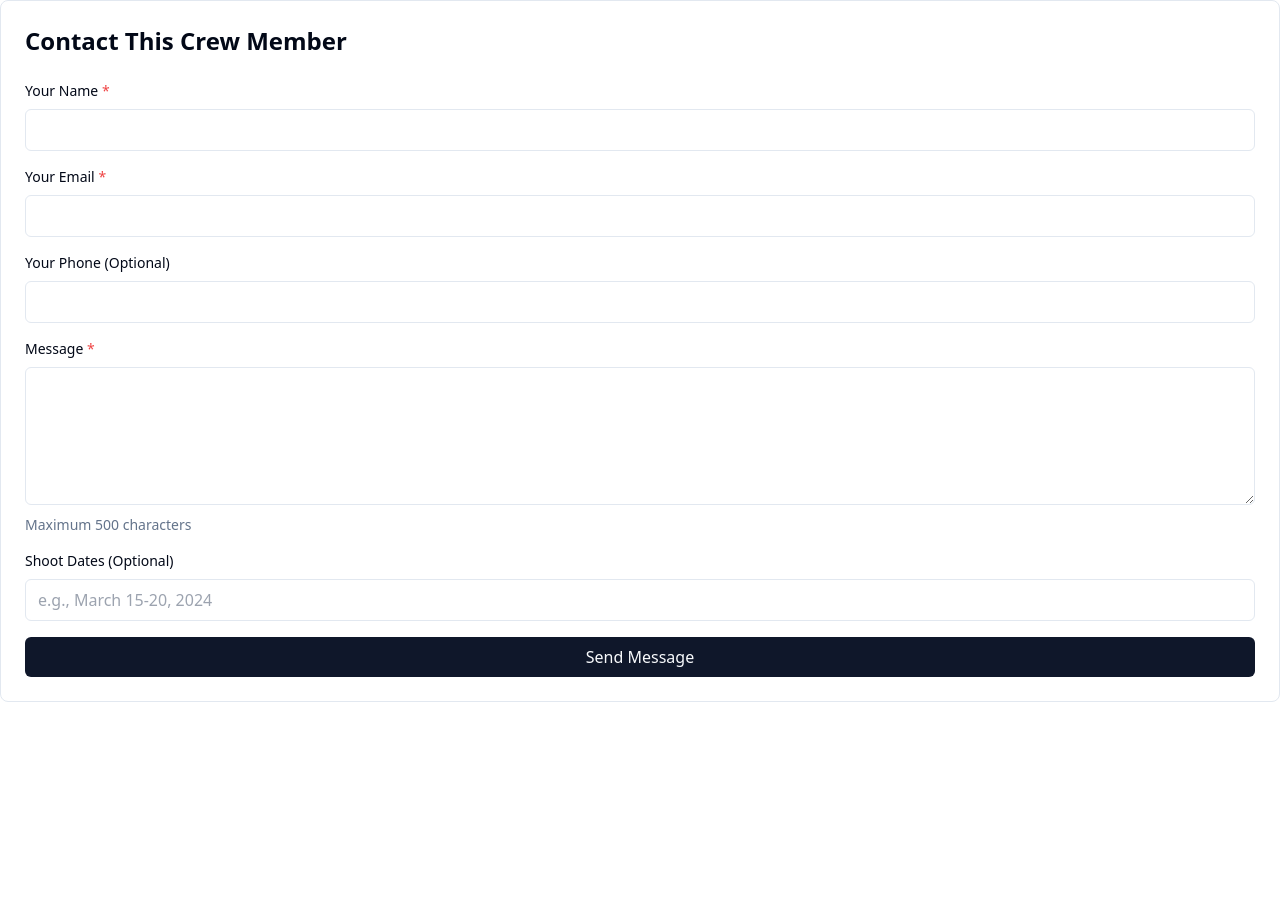
Scenario: ContactForm › should validate email format
// Fill required fields first
Type "John Producer" into the field labelled "Your Name *" at (640,130), box [25,109,1255,151]
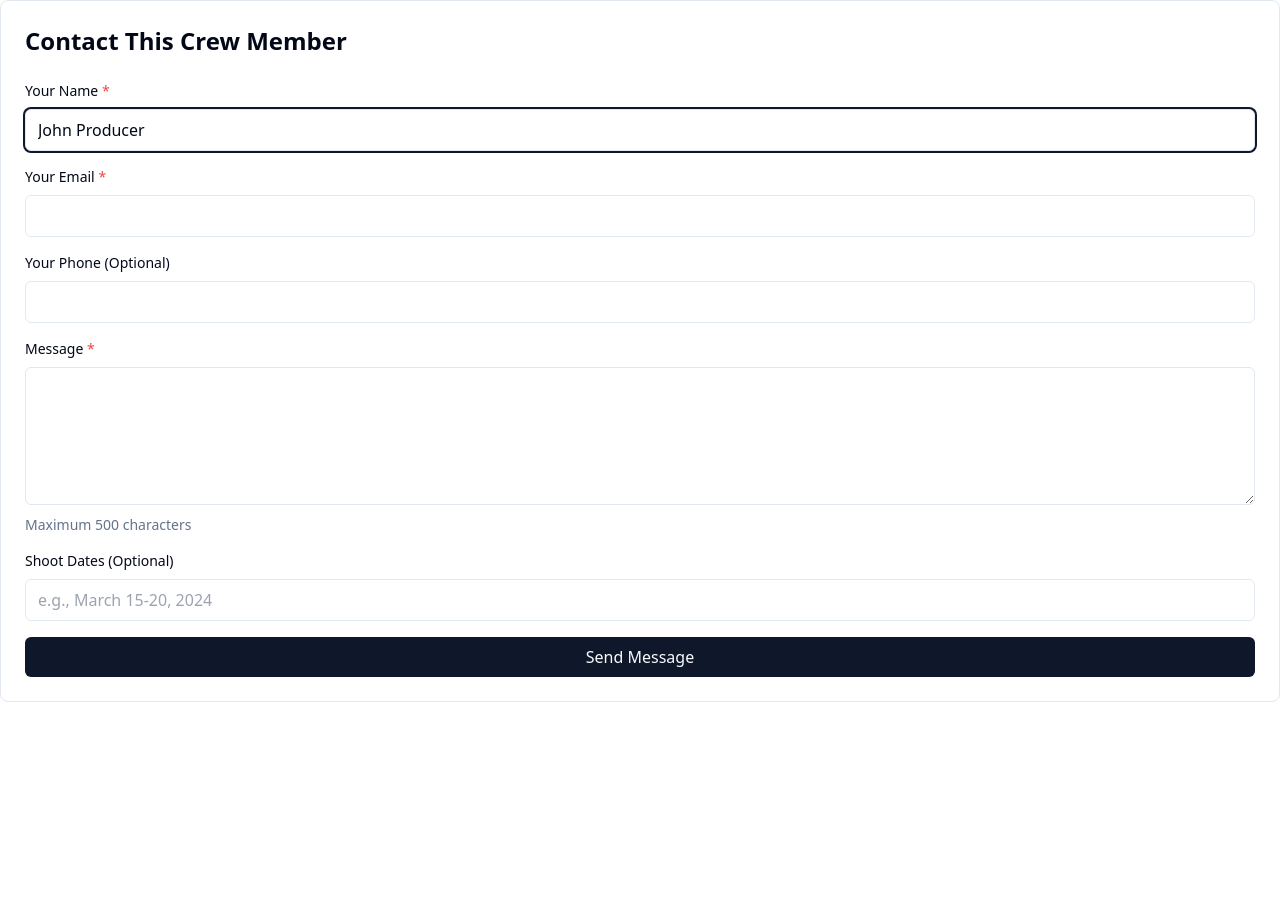
// Enter invalid email
Type "invalid-email" into the field labelled "Your Email *" at (640,216), box [25,195,1255,237]
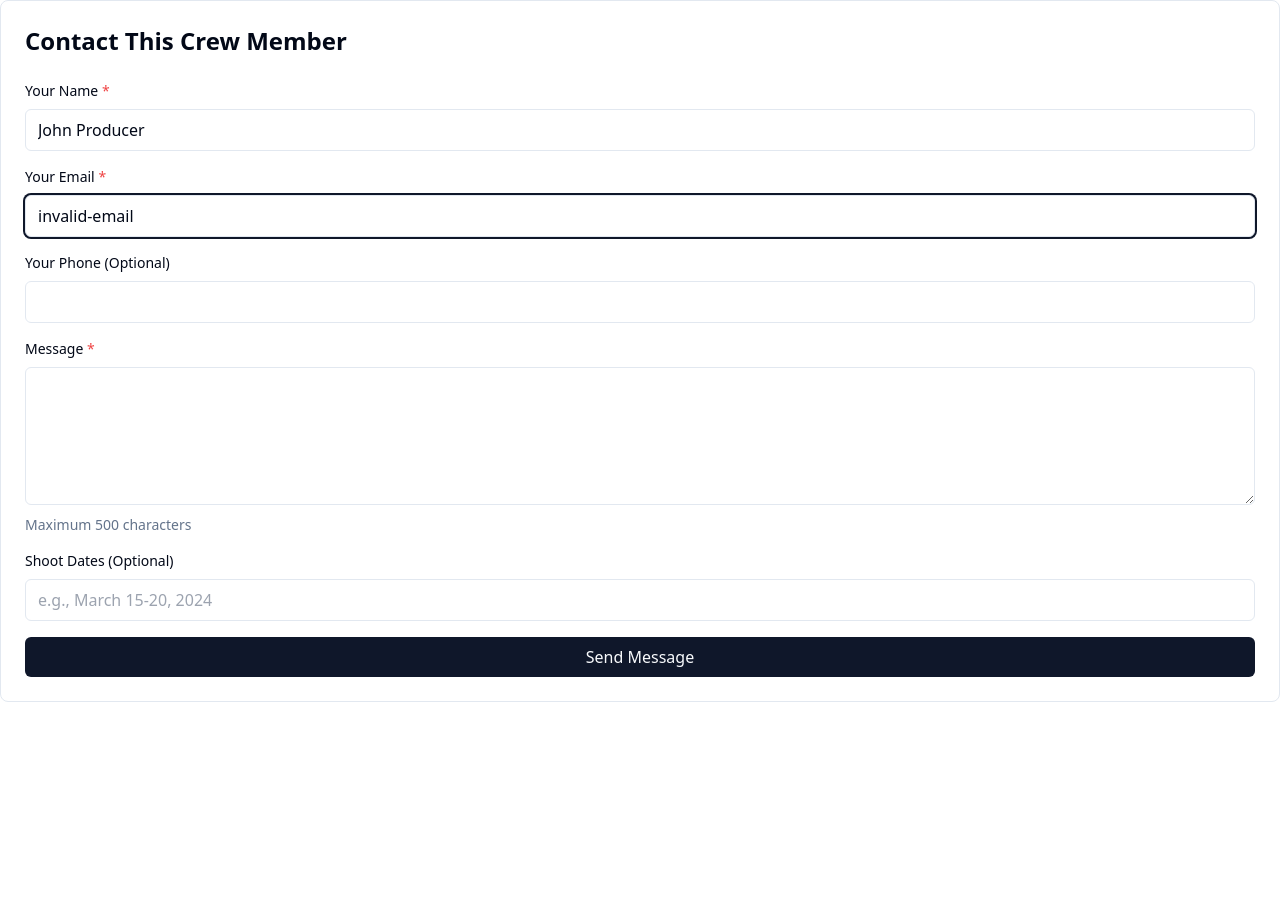
Type "Hello" into the text box labelled "Message *" at (640,436), box [25,367,1255,505]
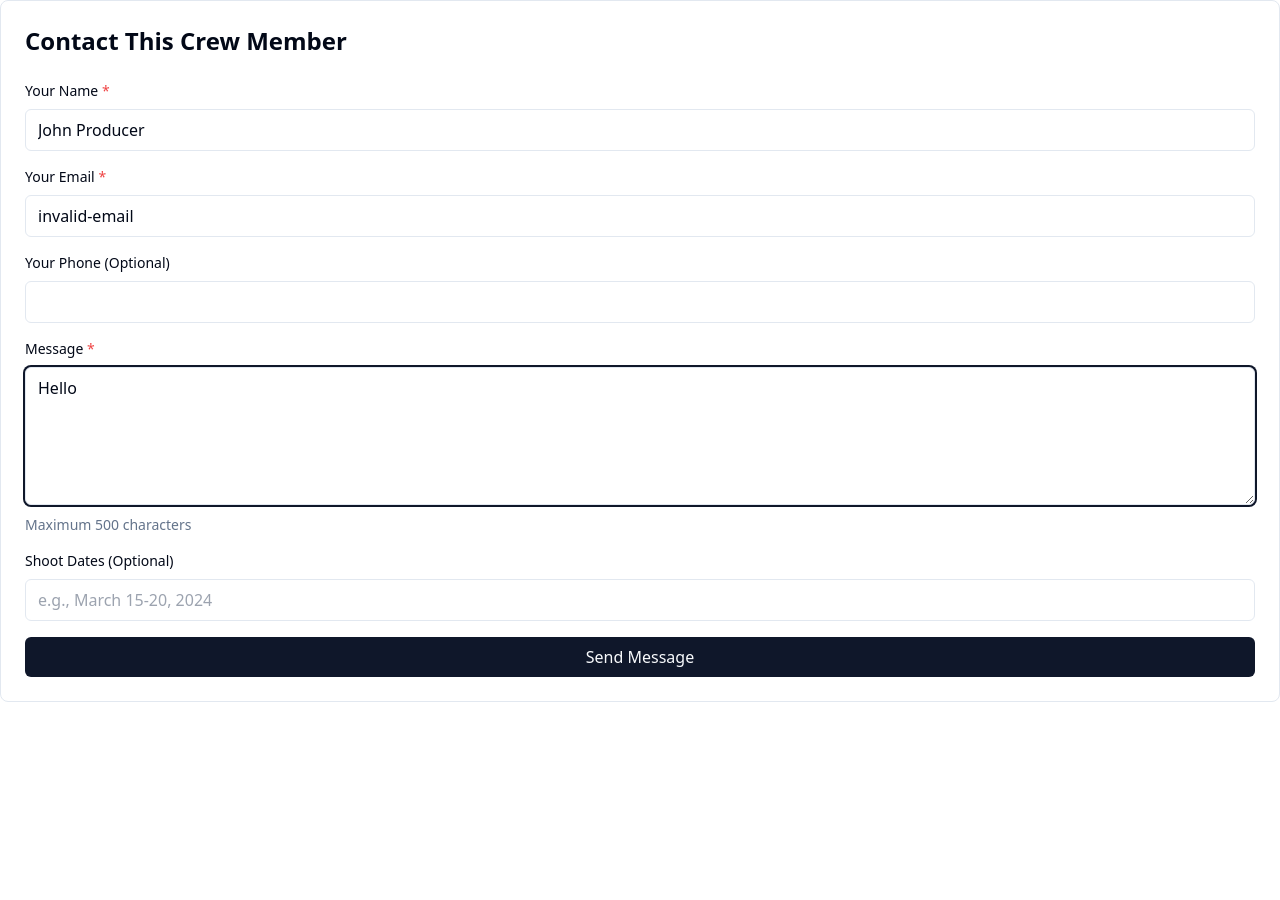
// Submit form to trigger validation
Click the button "Send Message" at (640,657), box [25,637,1255,677]
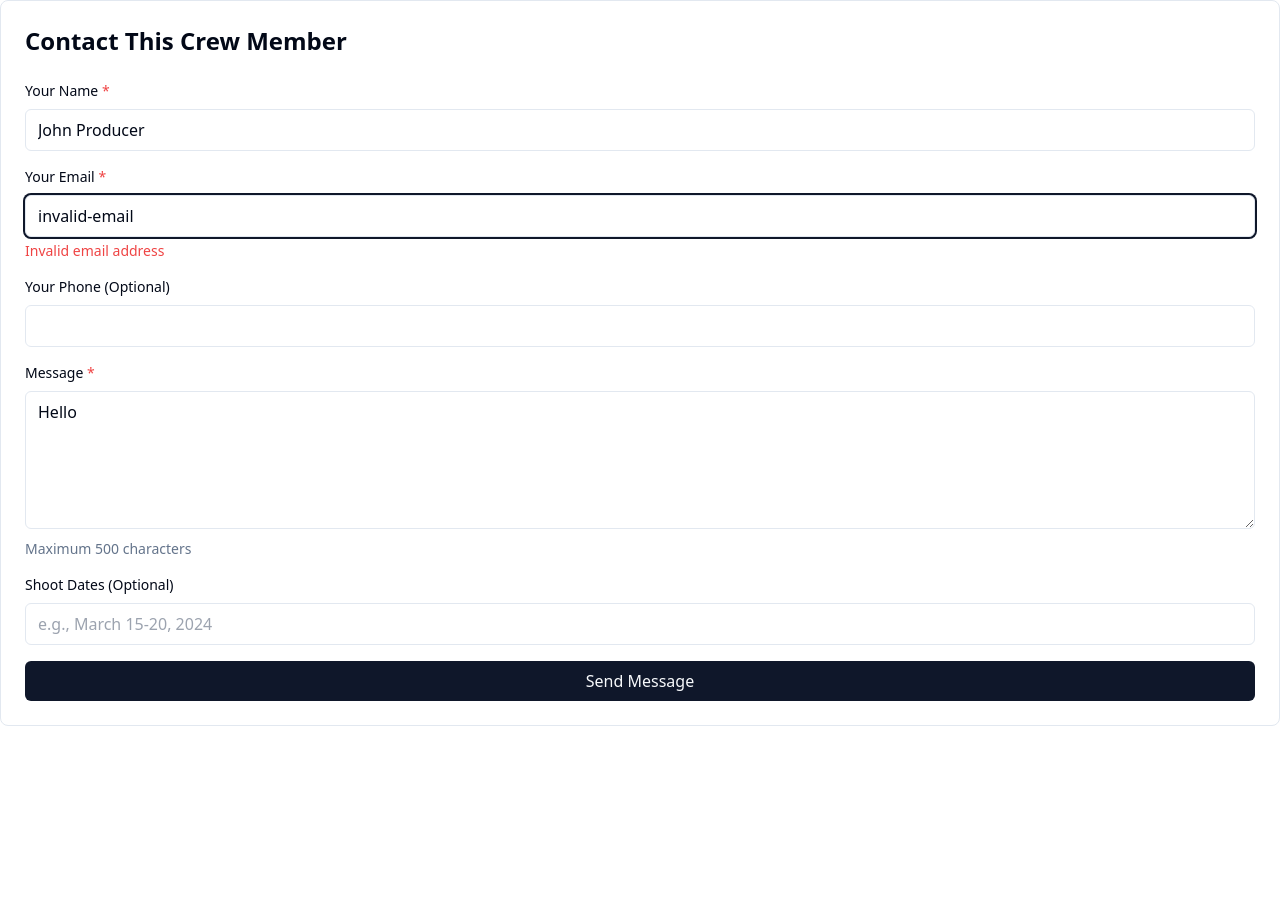
Check: the text "Invalid email address" is shown, box [25,241,164,260]
